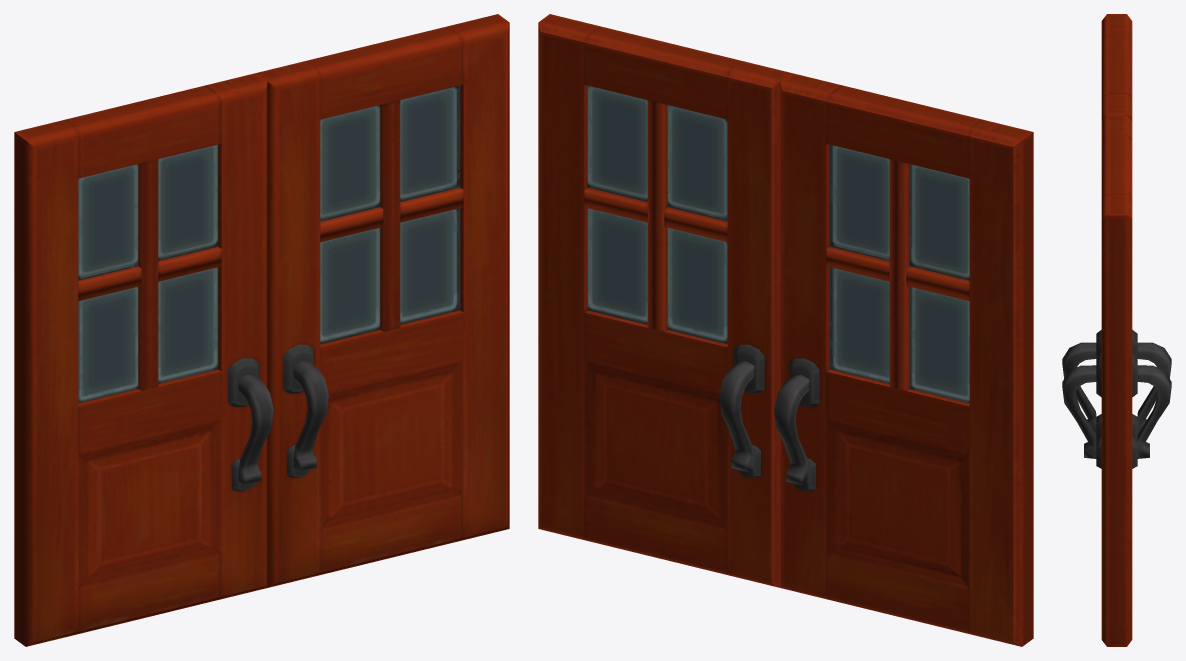
File: shop-market-door.glb
3 renders of one model, left to right at view 1: azimuth 30°, elevation 25°; view 2: azimuth 150°, elevation 25°; view 3: azimuth 270°, elevation 25°, orthographic. The views are drawn at different scales.
Visible parts, largest first — view 1: DoorL__mDoor, DoorL__mWindow; view 2: DoorL__mDoor, DoorL__mWindow; view 3: DoorL__mDoor.
Part boxes in pixels (x1,y1,x2,y2): DoorL__mDoor: (14,14,509,646); DoorL__mWindow: (78,85,460,403); DoorL__mDoor: (538,14,1033,646); DoorL__mWindow: (587,85,969,403); DoorL__mDoor: (1062,14,1171,646).
Size of the model in its own units: 18 by 18 by 4.12.
Materials: 2 (2 with a texture image).
